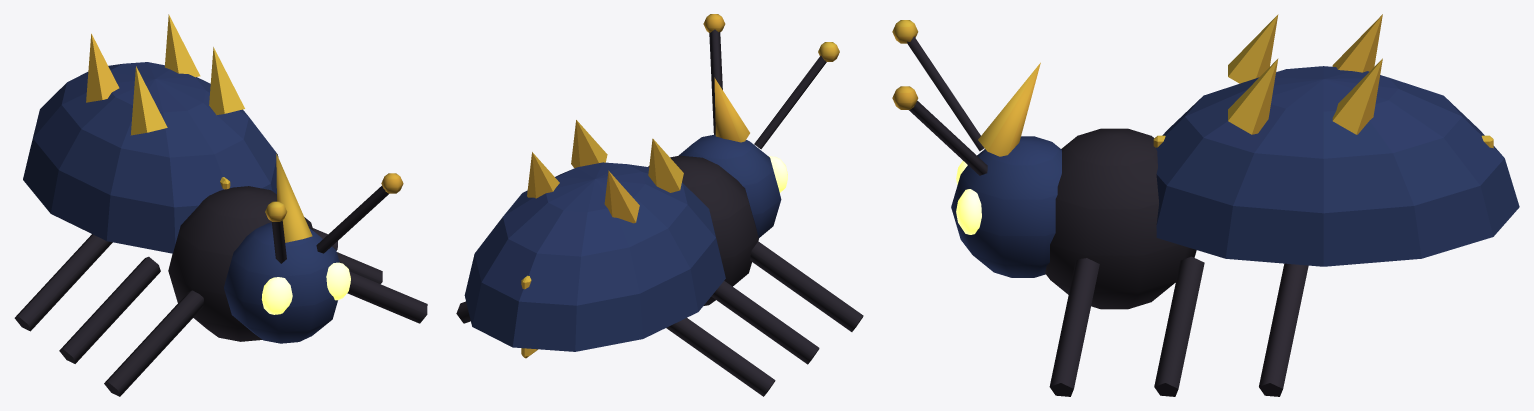
The model's file is monster_titan_beetle.glb.
3 views of the same model, side by side, from view 1: azimuth 30°, elevation 25°; view 2: azimuth 150°, elevation 25°; view 3: azimuth 270°, elevation 25° (orthographic). The views are drawn at different scales.
Visible parts, largest first — view 1: body_t0_palette, body_t0_glow_gold; view 2: body_t0_palette, body_t0_glow_gold; view 3: body_t0_palette, body_t0_glow_gold.
Boxes of the visible parts, left/top/right/bottom form: body_t0_palette: left=14, top=14, right=427, bottom=396; body_t0_glow_gold: left=261, top=262, right=350, bottom=314; body_t0_palette: left=456, top=14, right=863, bottom=396; body_t0_glow_gold: left=769, top=156, right=787, bottom=192; body_t0_palette: left=892, top=14, right=1519, bottom=396; body_t0_glow_gold: left=956, top=161, right=981, bottom=234.
Bounding box in the file's own units: 0.3299 × 0.2314 × 0.48.
